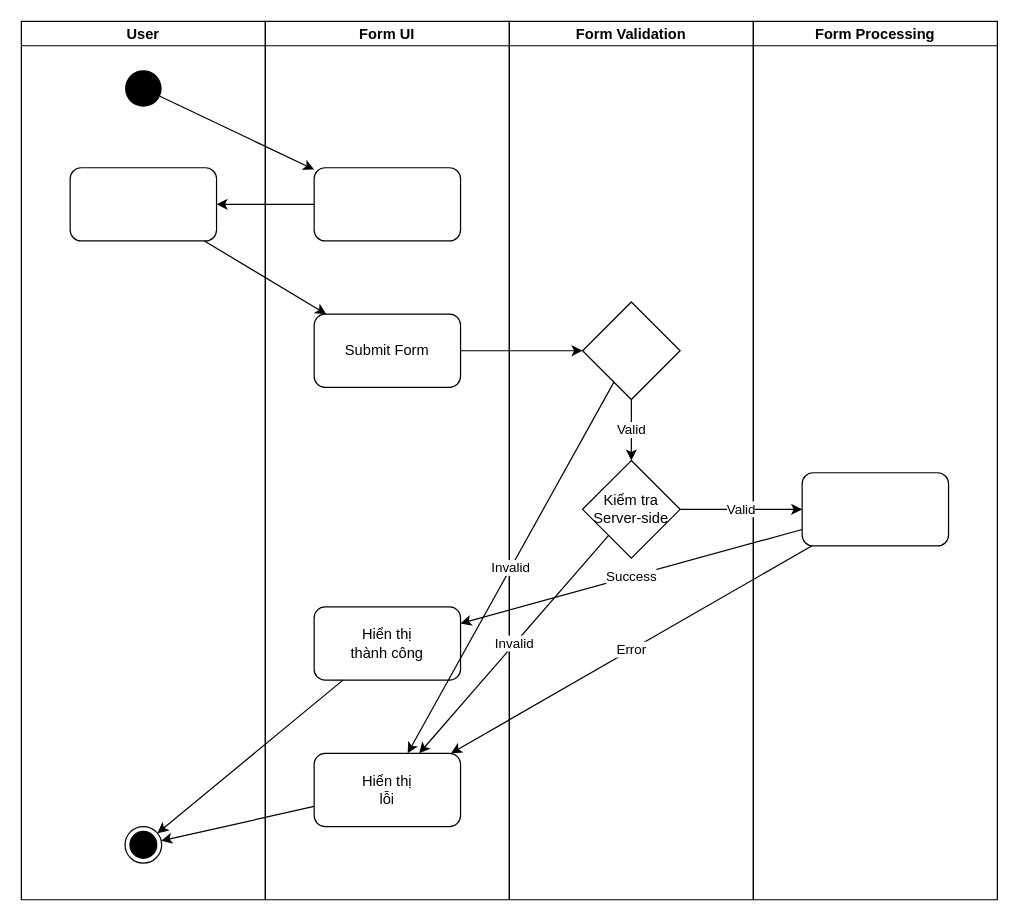
The diagram is 1019 pixels wide and 921 high, and some of its shapes have lost their labels. The centre of each missing label's shape, as x and y in pixels:
"Hiển thị form với các trường" goes at point (387, 204).
"Kiểm tra Client-side" goes at point (630, 350).
"Nhập dữ liệu vào form" goes at point (143, 204).
"Xử lý Form Data" goes at point (875, 509).
